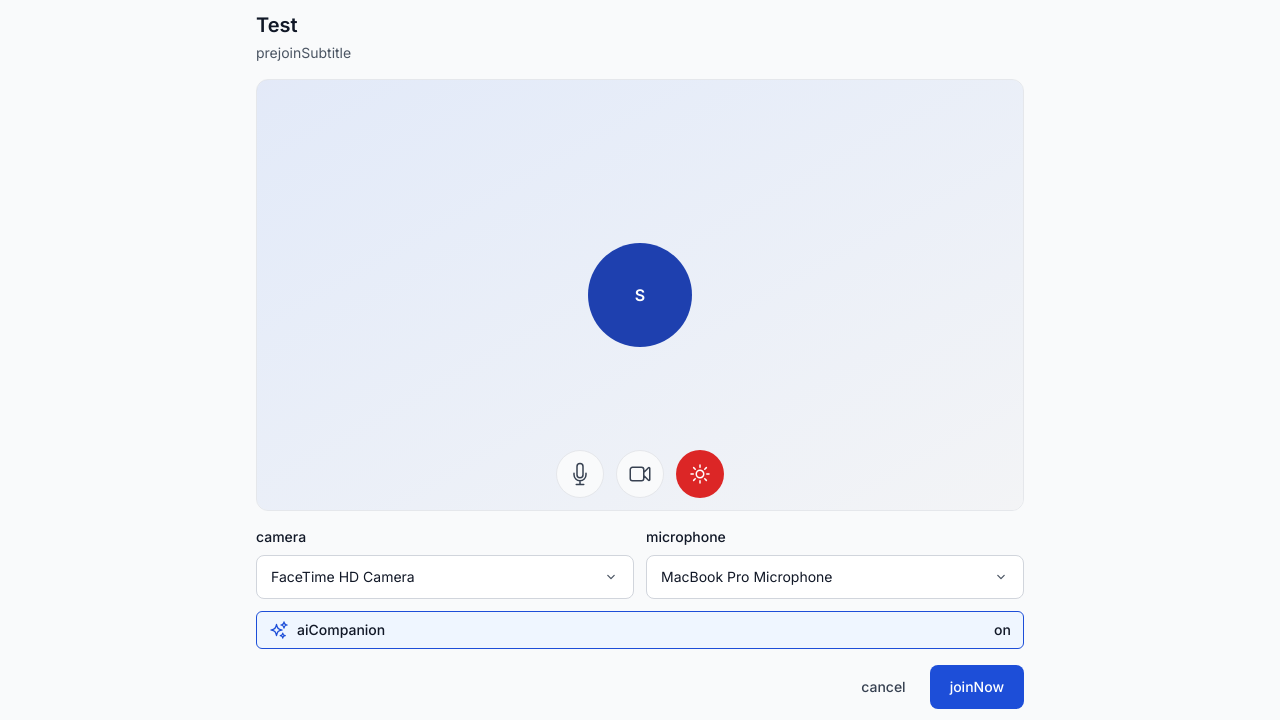
Test: MeetingExperience › prejoin → join shows the room
Click the button "joinNow" at coordinates (977, 687), box [930,665,1024,709]
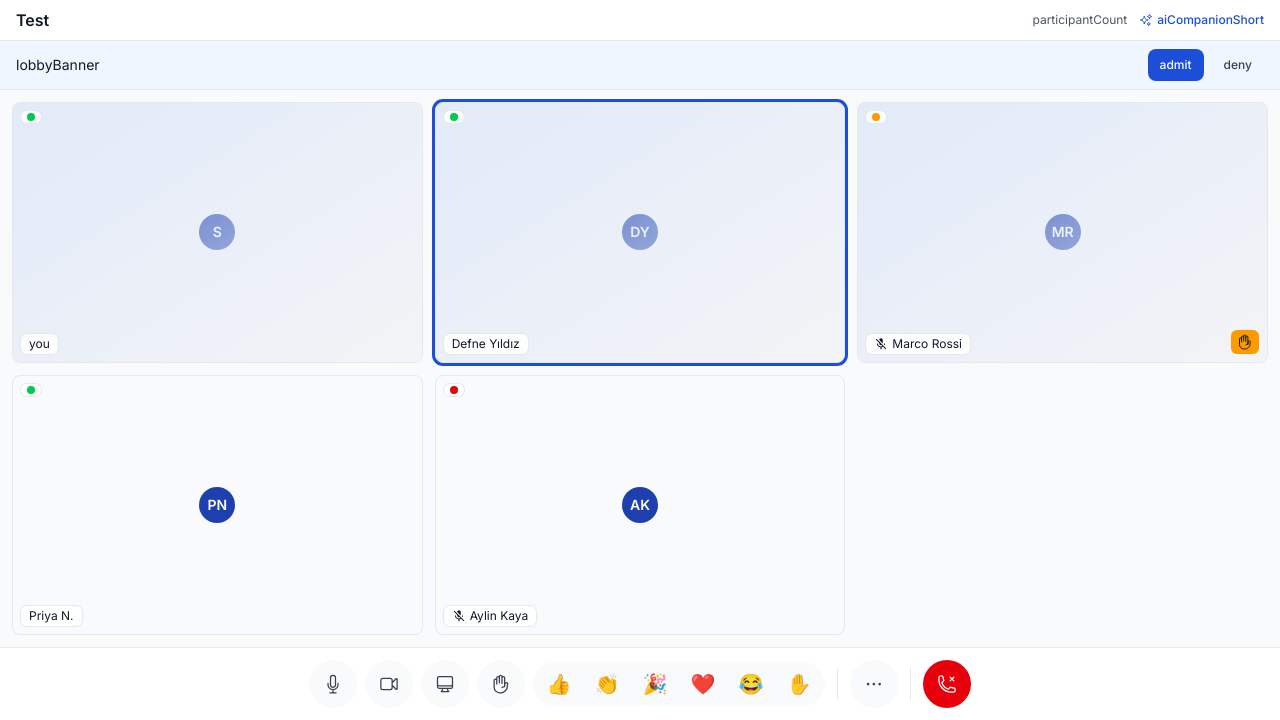
Expected: the element with test id "meeting-room" is shown
